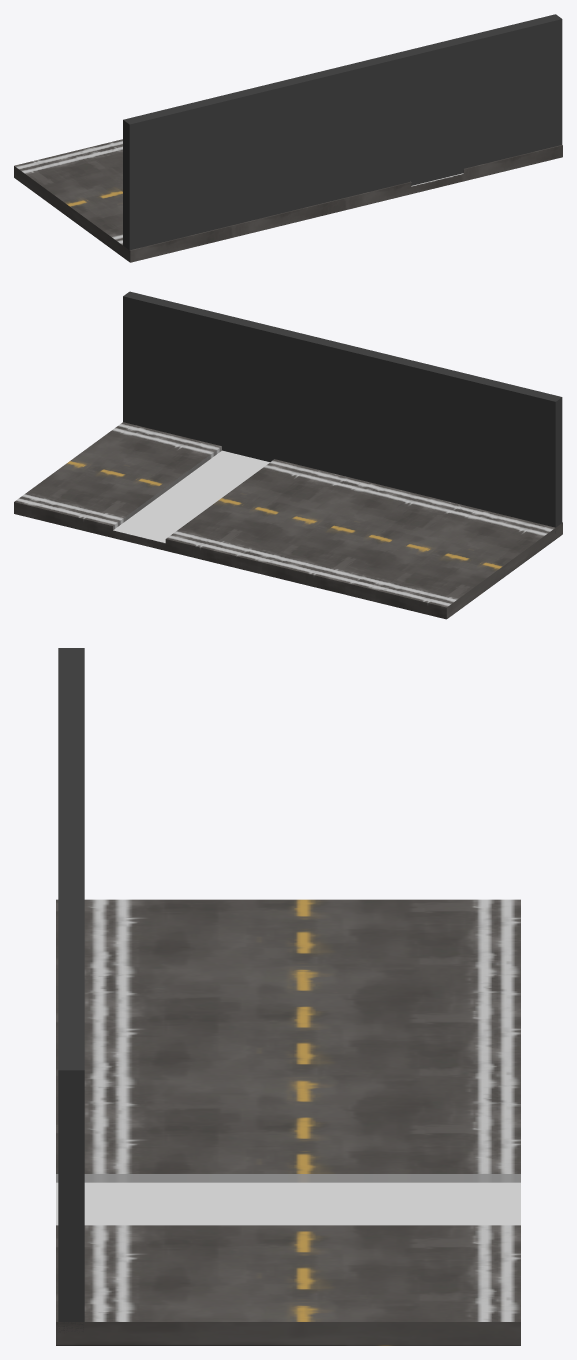
Rendered from Platform 3.fbx.
3 views of the same model, one above another, from view 1: azimuth 30°, elevation 25°; view 2: azimuth 150°, elevation 25°; view 3: azimuth 270°, elevation 25° (orthographic). The views are drawn at different scales.
Parts seen in each view (by area): view 1: Cube.001, Platform 3; view 2: Cube.001, Platform 3; view 3: Platform 3, Cube.001.
Boxes of the visible parts, x1=… form: Cube.001: x1=123, y1=14, x2=562, y2=250; Platform 3: x1=14, y1=139, x2=562, y2=262; Cube.001: x1=123, y1=291, x2=562, y2=533; Platform 3: x1=14, y1=422, x2=562, y2=619; Platform 3: x1=56, y1=899, x2=520, y2=1345; Cube.001: x1=58, y1=648, x2=84, y2=1332.
Bounding box in the file's own units: 7590 × 2309 × 3534.
